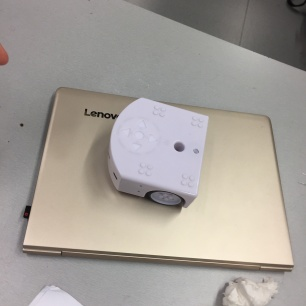thymio: (94, 96, 215, 216)
